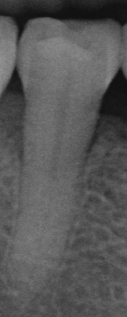tooth: (7, 17, 121, 296)
